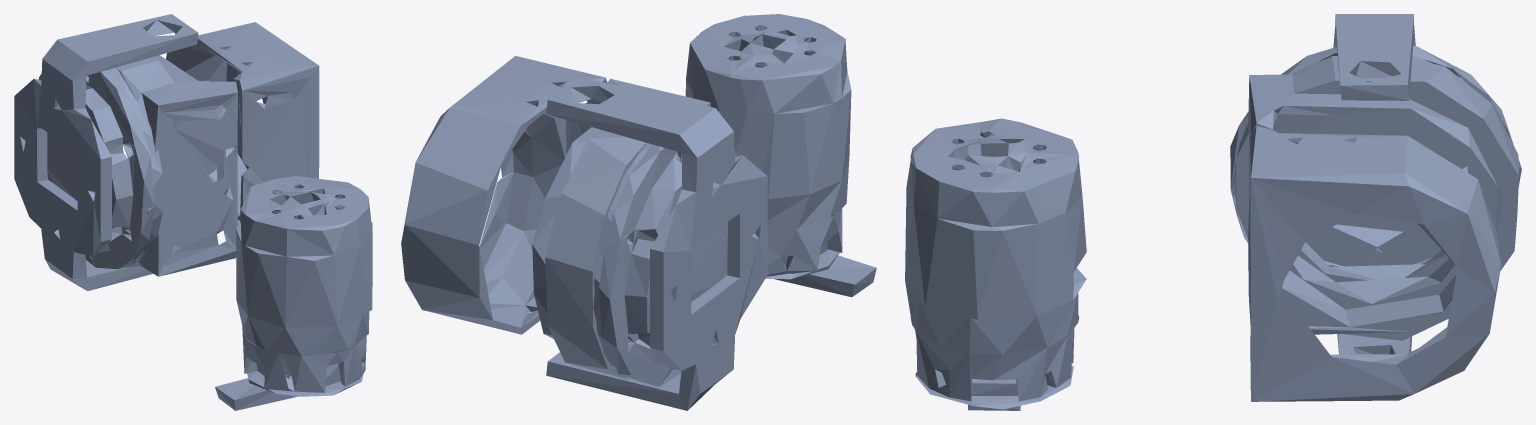
3 views of the same model, side by side, from view 1: azimuth 30°, elevation 25°; view 2: azimuth 150°, elevation 25°; view 3: azimuth 270°, elevation 25° (orthographic). The views are drawn at different scales.
Parts seen in each view (by area): view 1: M6R; view 2: M6R; view 3: M6R.
Part boxes in pixels (x1=…): M6R: x1=14, y1=14, x2=372, y2=410; M6R: x1=401, y1=14, x2=876, y2=410; M6R: x1=905, y1=14, x2=1521, y2=410.
Bounding box in the file's own units: 0.0575 × 0.1096 × 0.0635.
